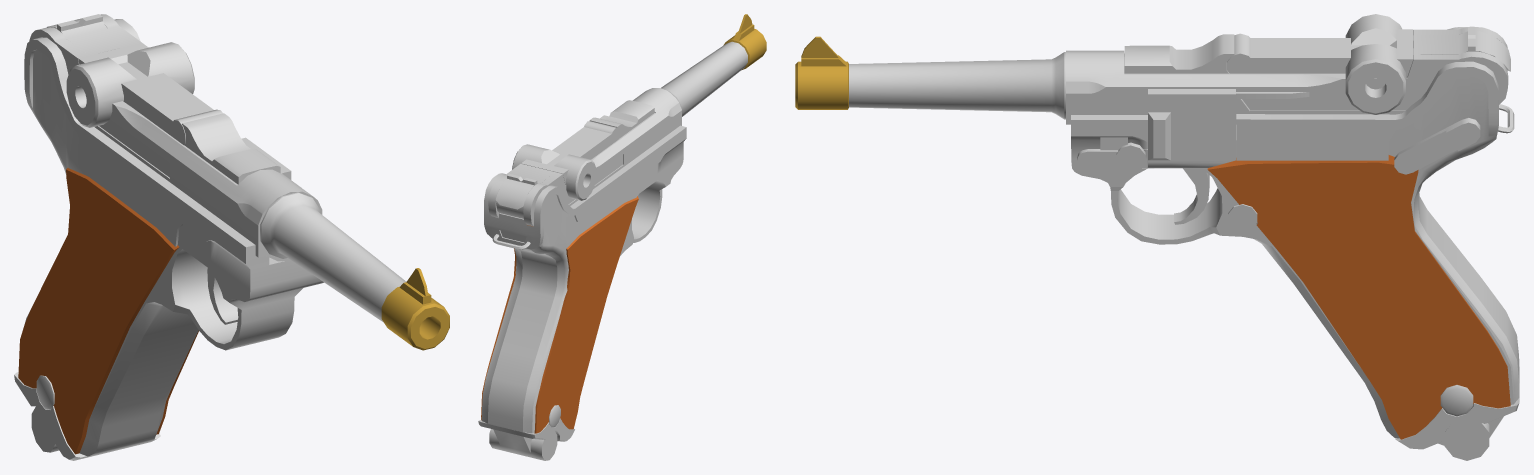
File: Luger.fbx
3 renders of one model, left to right at view 1: azimuth 30°, elevation 25°; view 2: azimuth 150°, elevation 25°; view 3: azimuth 270°, elevation 25°, orthographic. The views are drawn at different scales.
Visible parts, largest first — view 1: Cube.005; view 2: Cube.005; view 3: Cube.005.
Part boxes in pixels (bbox=[...]): Cube.005: bbox=[14, 14, 449, 460]; Cube.005: bbox=[478, 14, 766, 460]; Cube.005: bbox=[795, 14, 1519, 460].
Size of the model in its own units: 7.83 by 31.67 by 51.21.
